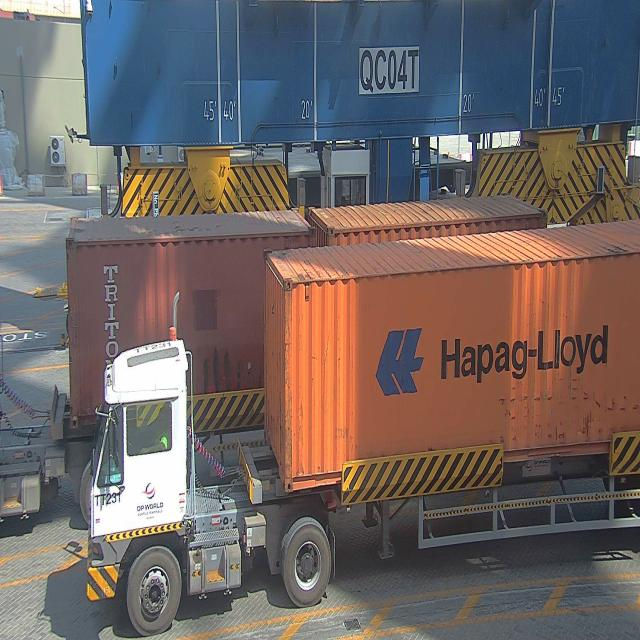dent: (495, 393, 633, 414)
